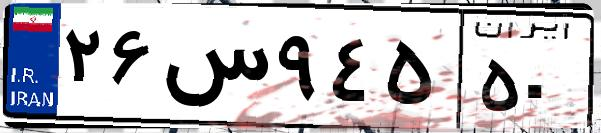0: (525, 38, 570, 115)
2: (57, 26, 110, 100)
4: (330, 28, 385, 110)
5: (385, 28, 445, 110), (475, 38, 525, 113)
6: (110, 28, 158, 98)
9: (270, 28, 330, 110)
س: (158, 20, 270, 120)
